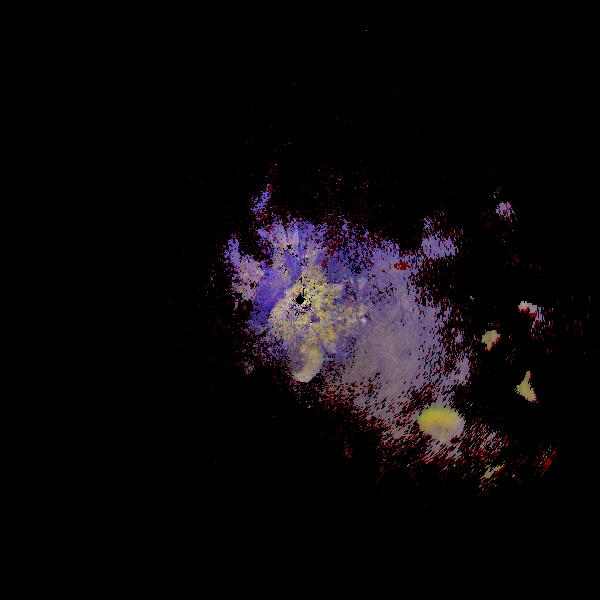roost: (396, 400, 483, 487), (464, 449, 548, 533), (514, 352, 583, 421), (271, 335, 331, 395)
